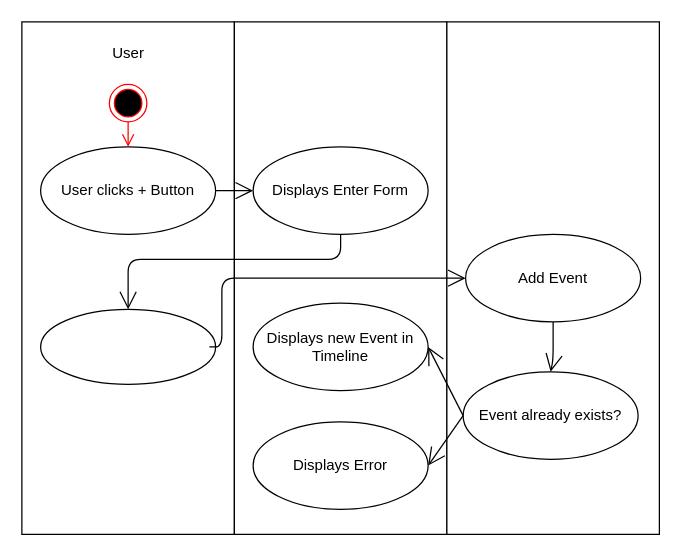
The diagram is 681 pixels wide and 556 high, and some of its shapes have lost their labels. Each missing label, with the box of its shape:
Client: (233, 21, 447, 534)
Server: (446, 21, 659, 534)
User enters information: (39, 308, 216, 384)
